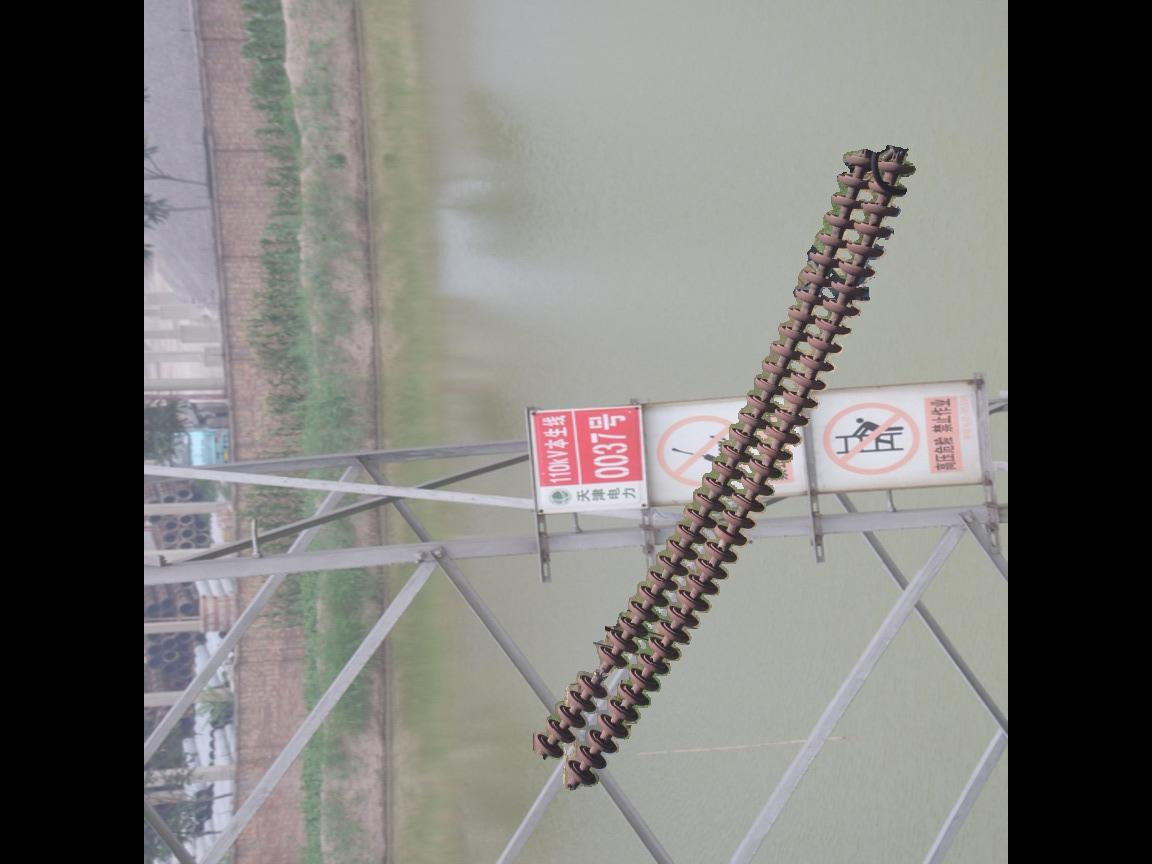insulator: (530, 143, 917, 799)
insulator_stringdrop: (574, 642, 630, 702)
